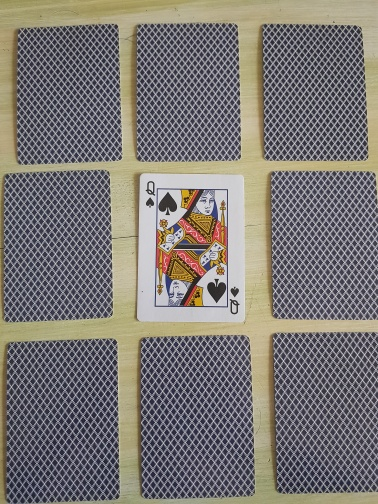queen: (134, 173, 247, 324)
